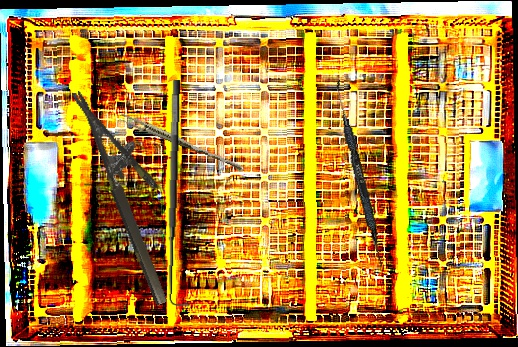Hook Surgical: (162, 79, 198, 309)
Needle Holder: (71, 77, 198, 307)
Spatula Surgical: (329, 80, 389, 267)
Tissue Forceps: (117, 112, 247, 173)
